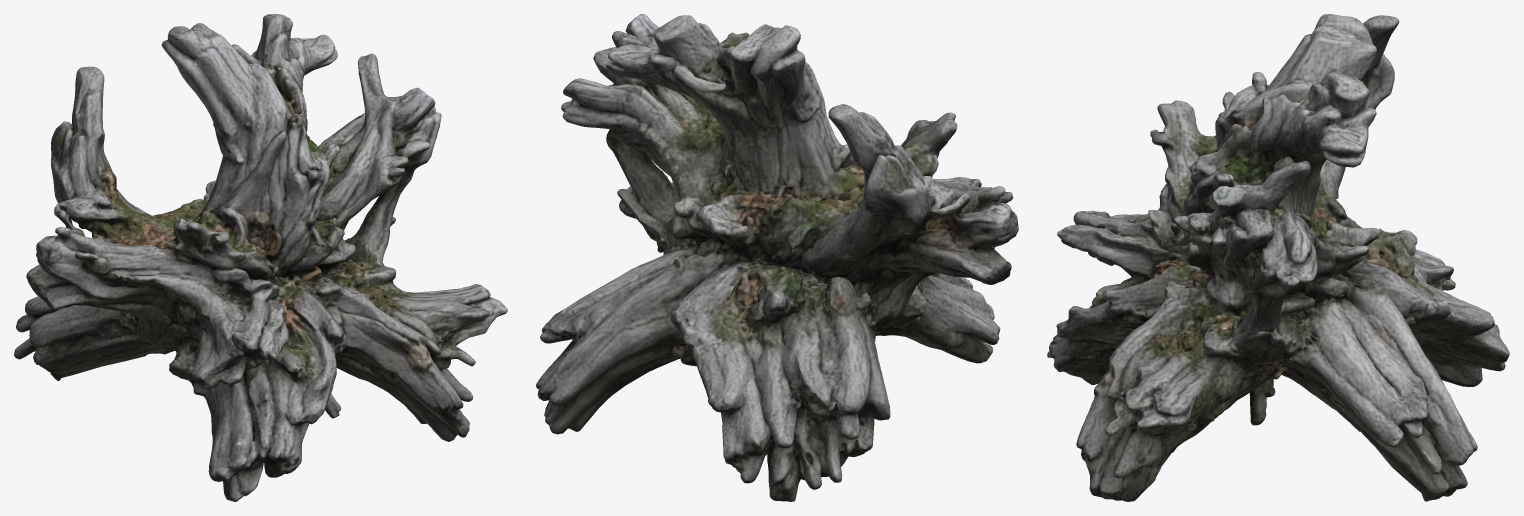
File: driftwood-root-v21.glb
3 renders of one model, left to right at view 1: azimuth 30°, elevation 25°; view 2: azimuth 150°, elevation 25°; view 3: azimuth 270°, elevation 25°, orthographic. The views are drawn at different scales.
Parts seen in each view (by area): view 1: geometry_0; view 2: geometry_0; view 3: geometry_0.
Part boxes in pixels (x1,y1,x2,y2): geometry_0: [14, 14, 507, 501]; geometry_0: [536, 14, 1018, 501]; geometry_0: [1047, 14, 1509, 501].
Bounding box in the file's own units: 0.8498 × 0.7454 × 0.7762.
1 material, 1 textured.
